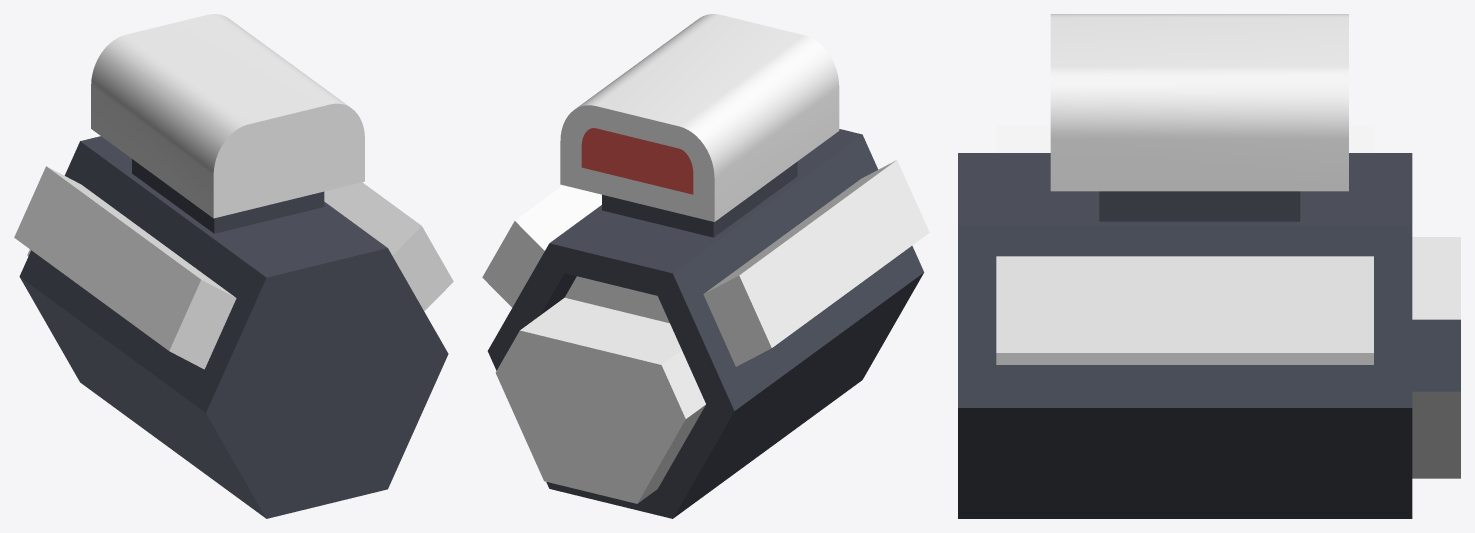
Rendered from engine_model.fbx.
3 views of the same model, side by side, from view 1: azimuth 30°, elevation 25°; view 2: azimuth 150°, elevation 25°; view 3: azimuth 270°, elevation 25° (orthographic). The views are drawn at different scales.
Visible parts, largest first — view 1: detail_engine_5; view 2: detail_engine_5; view 3: detail_engine_5.
Part boxes in pixels (x1,y1,x2,y2): detail_engine_5: (14,14,453,518); detail_engine_5: (482,14,929,518); detail_engine_5: (958,14,1460,518).
Bounding box in the file's own units: 4.11 × 4.99 × 5.16.
